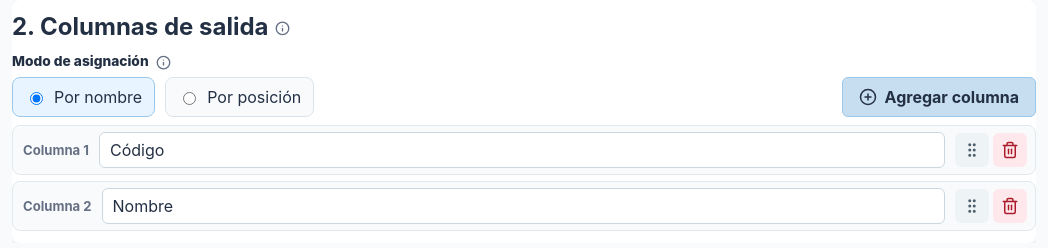
CombineOutputColumns › keeps add, edit and remove behavior in compact rows
Check: the number of elements with class "combineOutputColumnItem" is 2, box 12,125 -> 1036,175; 12,181 -> 1036,231
Replace the text in the field named "Nombre de columna de salida 1" with "SKU": (522, 150) 99,132 -> 945,168
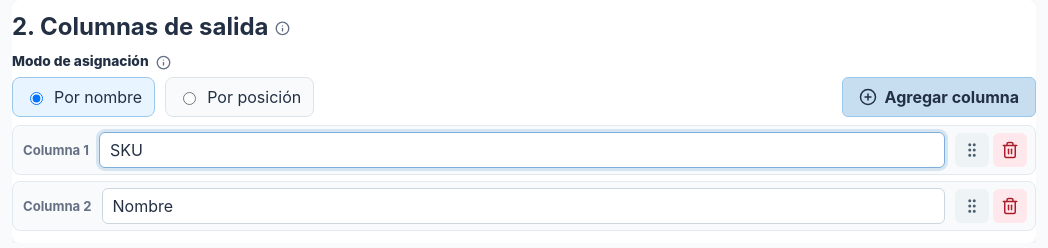
Hover over the button named "Remover columna SKU": (1010, 150) 993,133 -> 1027,167
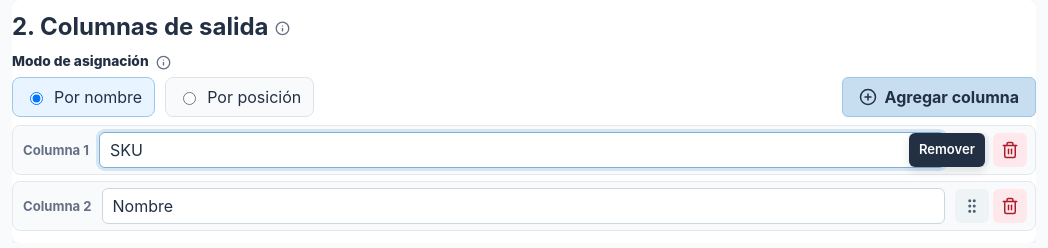
Check: the tooltip reads "Remover", box 919,141 -> 975,157
Move the pointer off the button named "Remover columna SKU", box 993,133 -> 1027,167
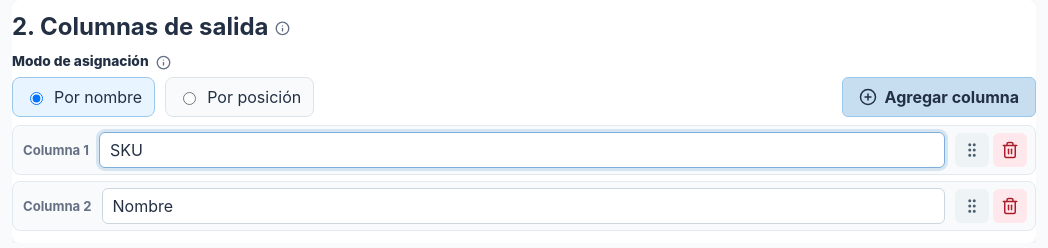
Click the button named "Remover columna SKU": (1010, 150) 993,133 -> 1027,167
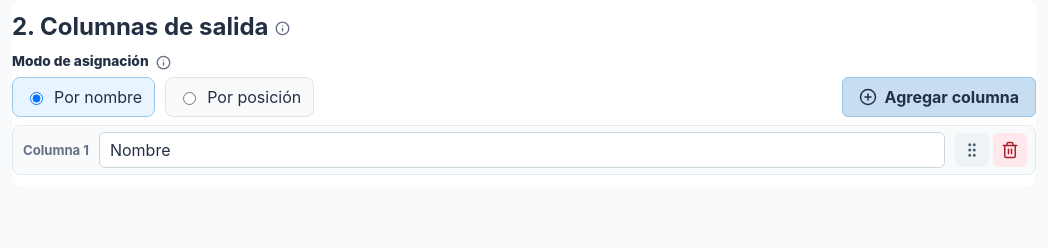
Check: the number of elements with class "combineOutputColumnItem" is 1, box 12,125 -> 1036,175
Click the button "Agregar columna": (939, 97) 842,77 -> 1036,117
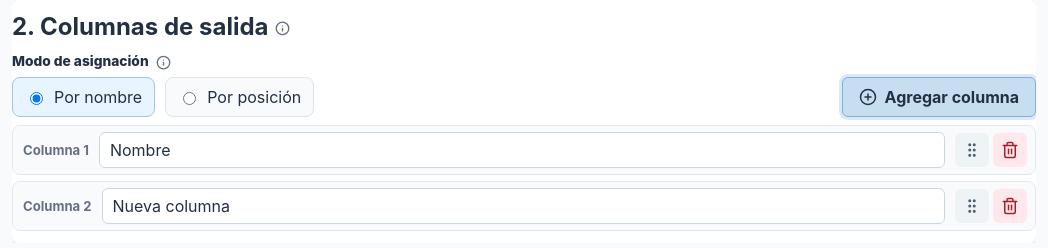
Check: the number of elements with class "combineOutputColumnItem" is 2, box 12,125 -> 1036,175; 12,181 -> 1036,231
Check: the field named "Nombre de columna de salida 2" holds "Nueva columna", box 102,188 -> 945,224
